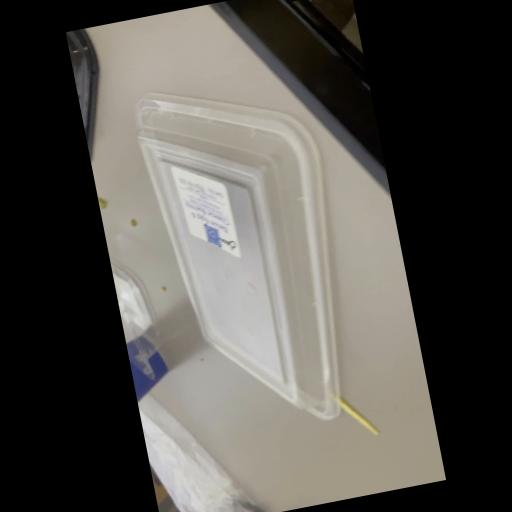rigid_plastic_lid: (130, 68, 370, 444)
